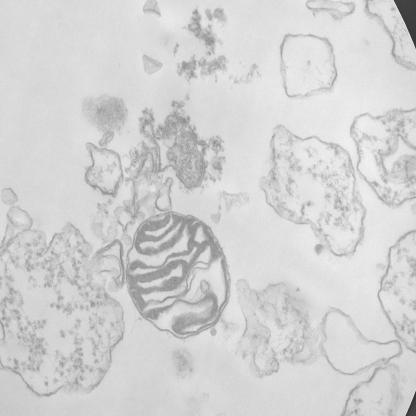mitochondria: (125, 210, 230, 334)
